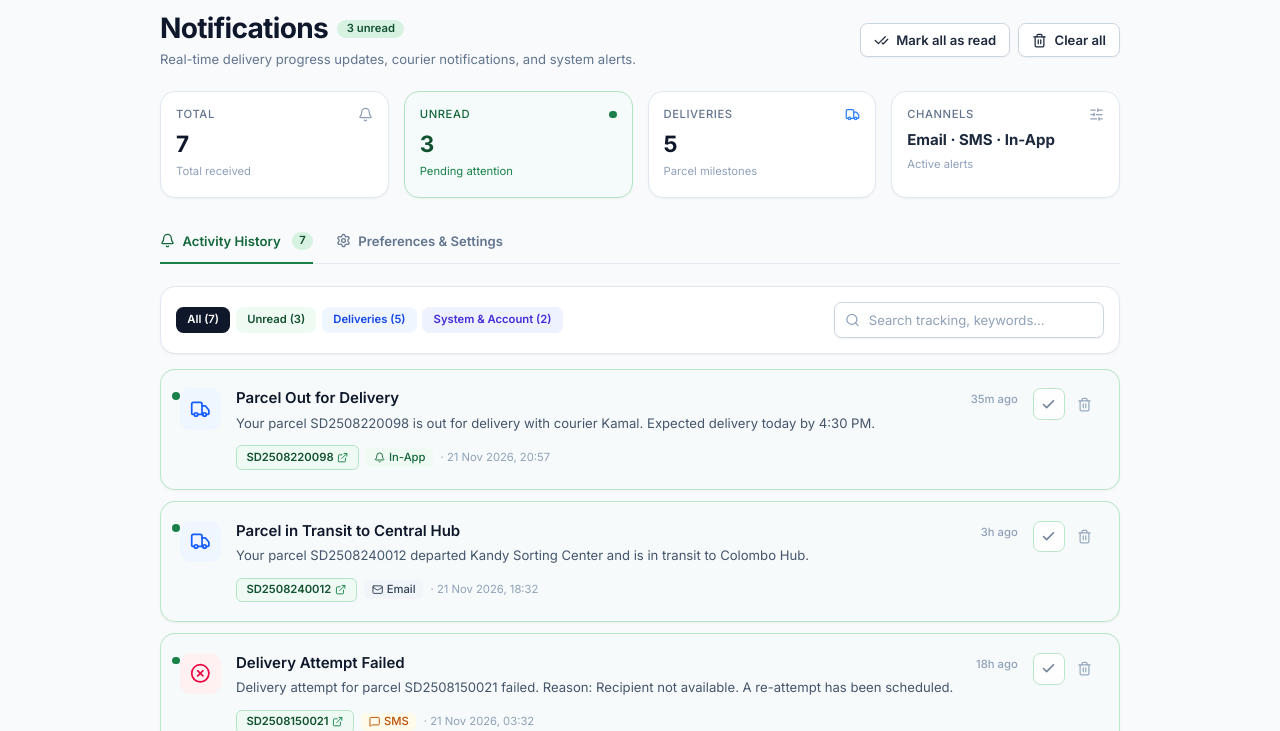
NotificationsPage › switches between Activity History and Preferences tabs
Click the button "Preferences & Settings" at (419, 242), box 336,220 -> 503,264
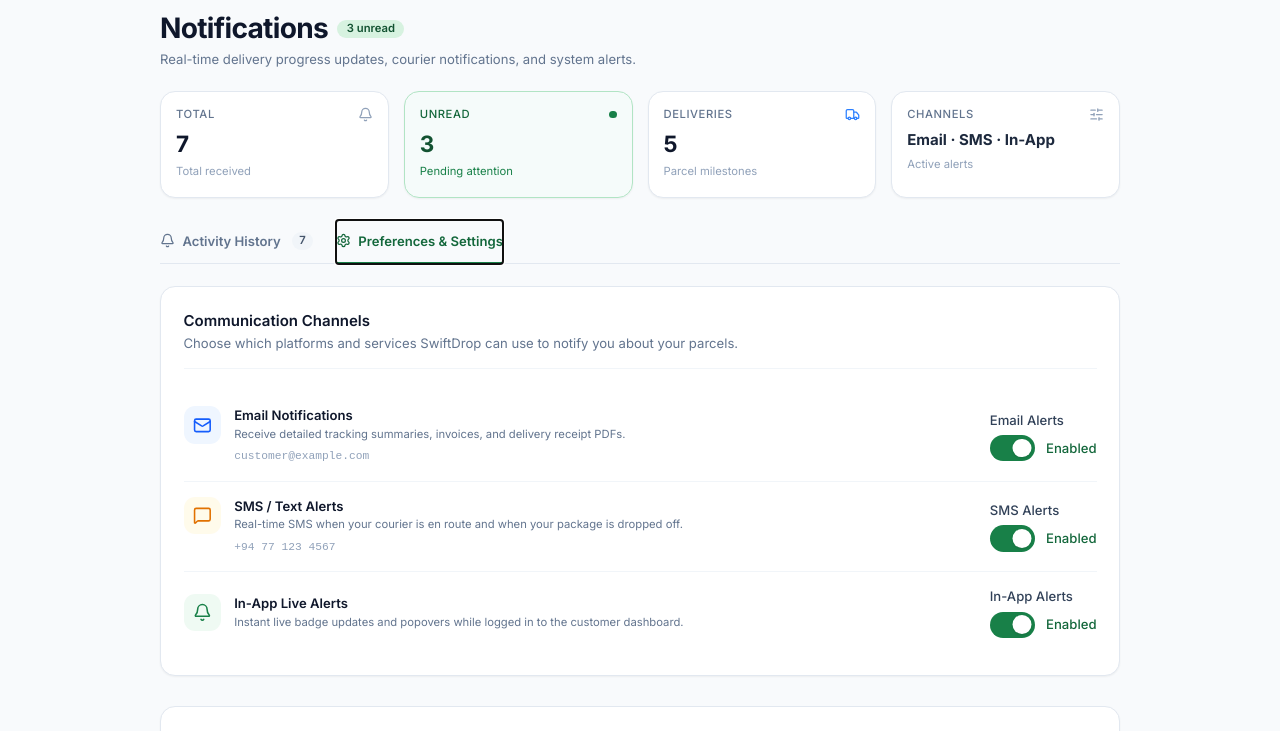
Expected: the heading "Communication Channels" is shown, 184,310 -> 370,330
Click the button "Activity History 7" at (237, 242), box 160,220 -> 313,264
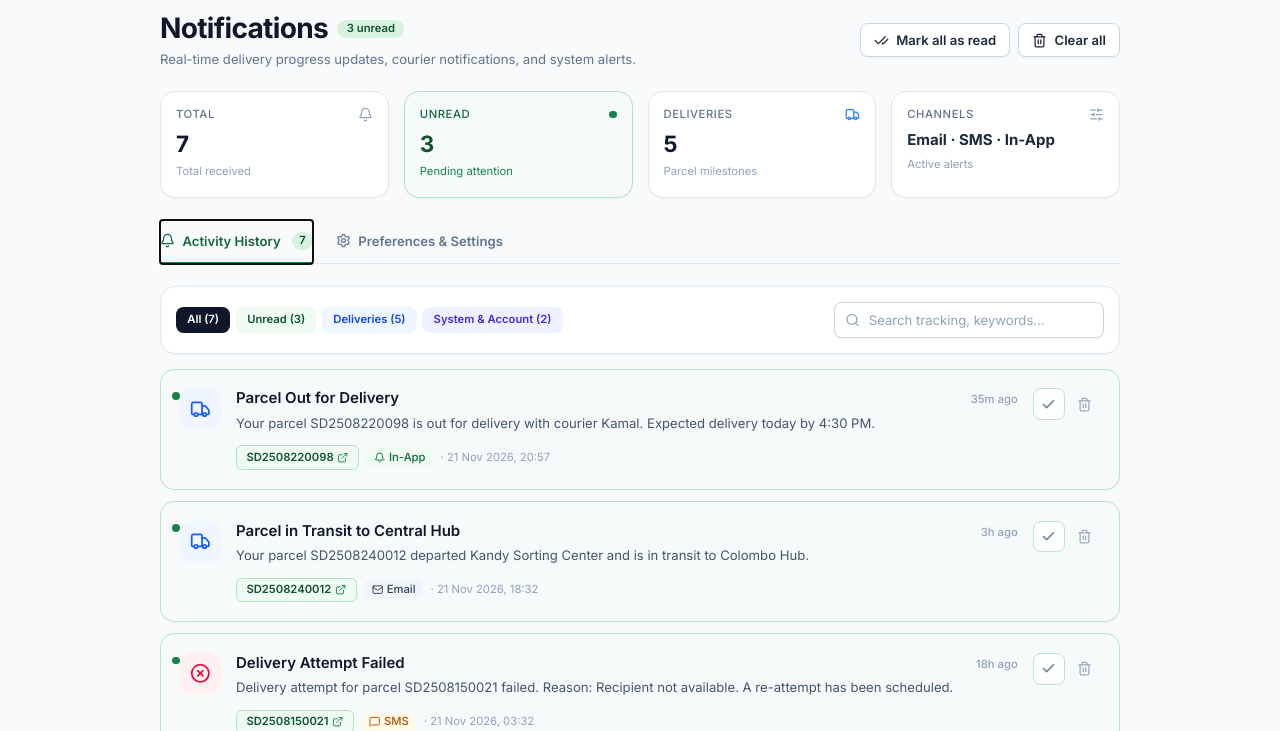
Expected: the heading "Parcel Out for Delivery" is shown, 236,388 -> 399,409
